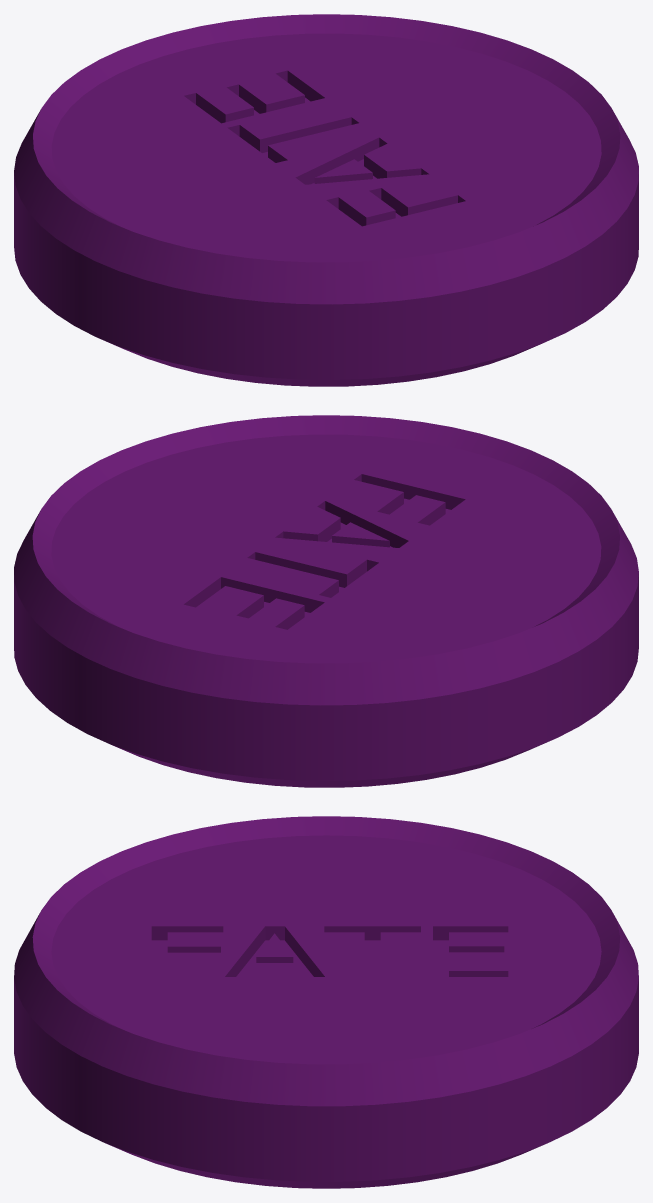
The model's file is Piece V1 Purple.glb.
The picture shows the model from 3 angles, top to bottom: view 1: azimuth 30°, elevation 25°; view 2: azimuth 150°, elevation 25°; view 3: azimuth 270°, elevation 25°; orthographic projection.
Visible parts, largest first — view 1: Solid1; view 2: Solid1; view 3: Solid1.
Boxes of the visible parts, x1,y1,x2,y2 form: Solid1: (14,14,638,386); Solid1: (14,415,638,787); Solid1: (14,816,638,1188).
Bounding box in the file's own units: 0.0317 × 0.00741 × 0.0317.
